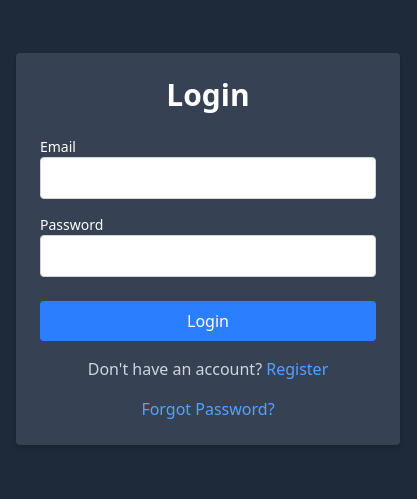
Test: Login Component › handles login failure correctly
# Fill form
In the field labelled "Email": (208, 178) [40, 157, 376, 199], type "test@example.com"
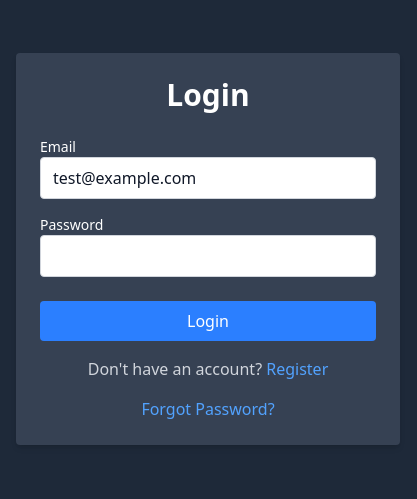
In the password field labelled "Password": (208, 256) [40, 235, 376, 277], type "wrong_password"
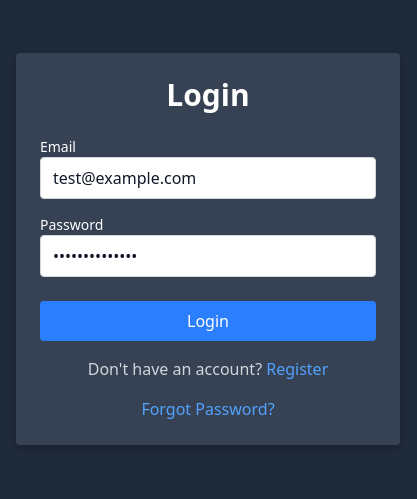
# Submit form
Click the button "Login": (208, 321) [40, 301, 376, 341]
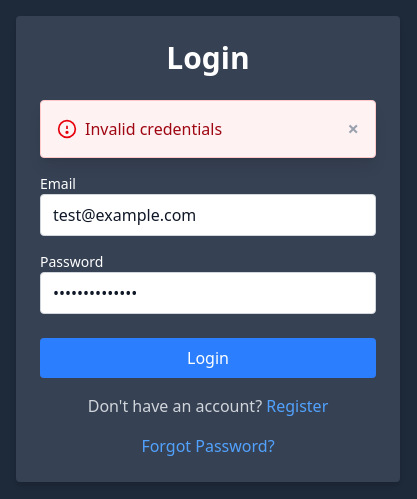
Now the text "Invalid credentials" is shown, box [85, 118, 222, 140]
